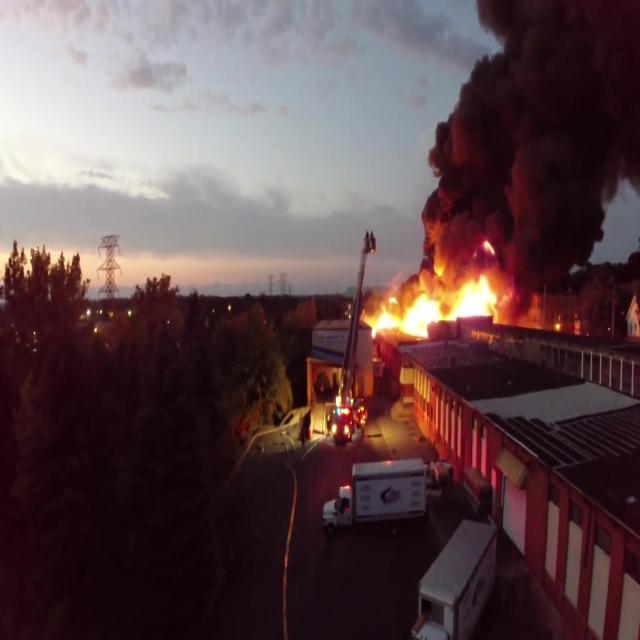Fire: (366, 252, 505, 341)
Smoke: (366, 0, 640, 334)
